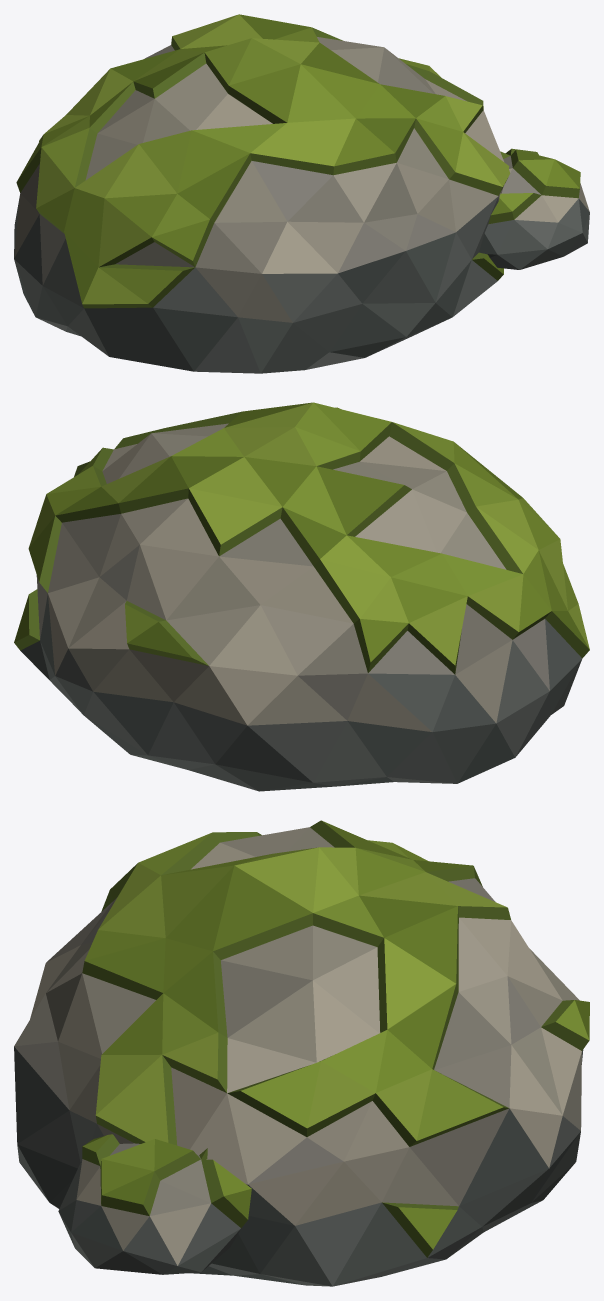
The model's file is river_boulder_large.glb.
The picture shows the model from 3 angles, top to bottom: view 1: azimuth 30°, elevation 25°; view 2: azimuth 150°, elevation 25°; view 3: azimuth 270°, elevation 25°; orthographic projection. The views are drawn at different scales.
Visible parts, largest first — view 1: river_boulder_large; view 2: river_boulder_large; view 3: river_boulder_large.
Part boxes in pixels (x1,y1,x2,y2): river_boulder_large: (14, 14, 589, 373); river_boulder_large: (14, 402, 589, 791); river_boulder_large: (14, 820, 589, 1286).
Size of the model in its own units: 4.49 by 2.13 by 3.53.
